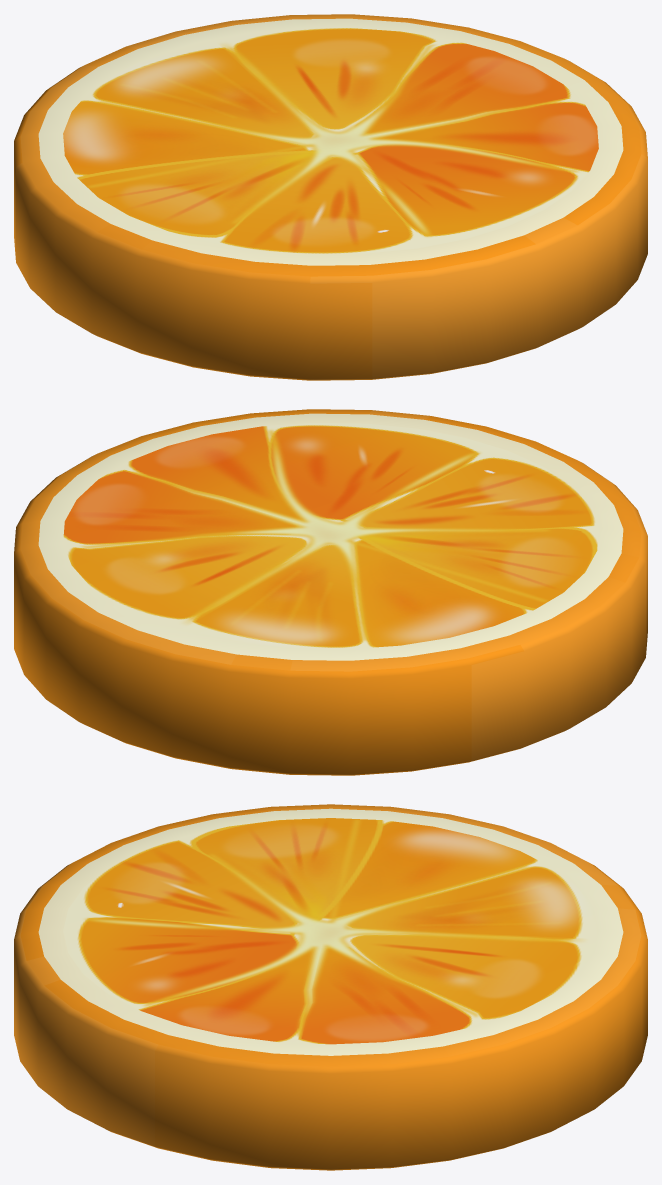
File: orange_tangerine.fbx
The picture shows the model from 3 angles, top to bottom: view 1: azimuth 30°, elevation 25°; view 2: azimuth 150°, elevation 25°; view 3: azimuth 270°, elevation 25°; orthographic projection.
Visible parts, largest first — view 1: tangerine; view 2: tangerine; view 3: tangerine.
Part boxes in pixels (left/top/right/bottom): tangerine: left=14, top=14, right=647, bottom=380; tangerine: left=14, top=409, right=647, bottom=775; tangerine: left=14, top=804, right=647, bottom=1170.
Size of the model in its own units: 200 by 39.2 by 200.
